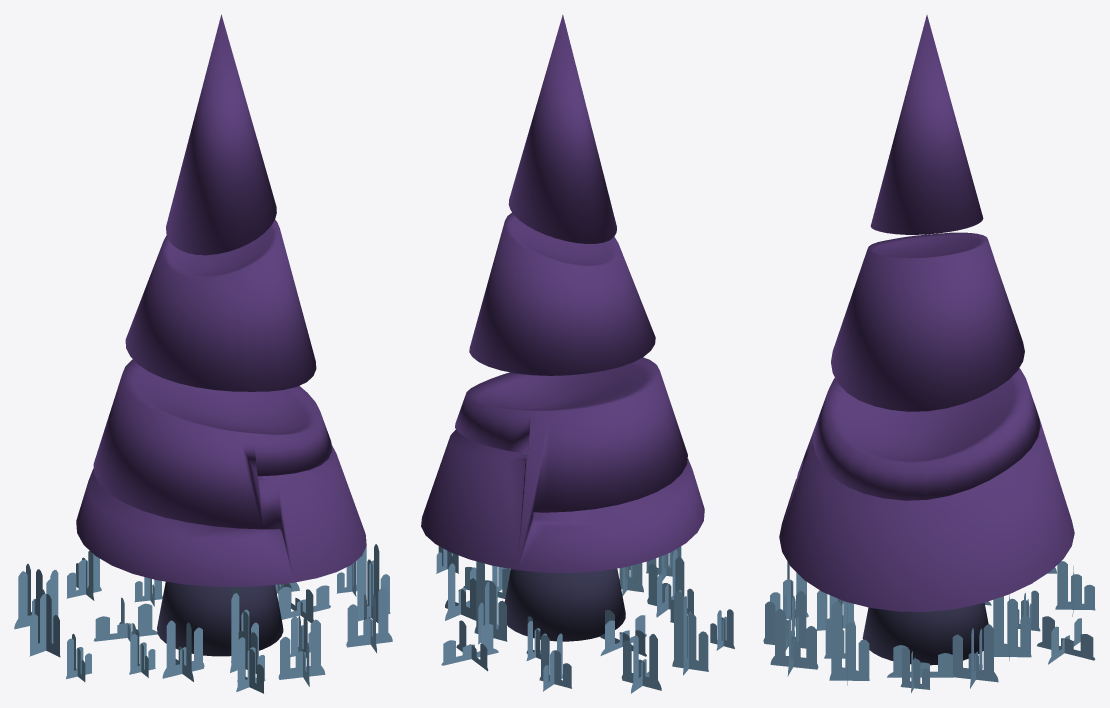
File: cone_tree_2.glb
3 views of the same model, side by side, from view 1: azimuth 30°, elevation 25°; view 2: azimuth 150°, elevation 25°; view 3: azimuth 270°, elevation 25° (orthographic). The views are drawn at different scales.
Visible parts, largest first — view 1: Cone.001; view 2: Cone.001; view 3: Cone.001.
Part boxes in pixels (box(x1,y1,x2,y2)): Cone.001: box(14, 14, 392, 693); Cone.001: box(421, 14, 734, 693); Cone.001: box(763, 15, 1095, 692).
Size of the model in its own units: 1.34 by 2.58 by 1.24.
